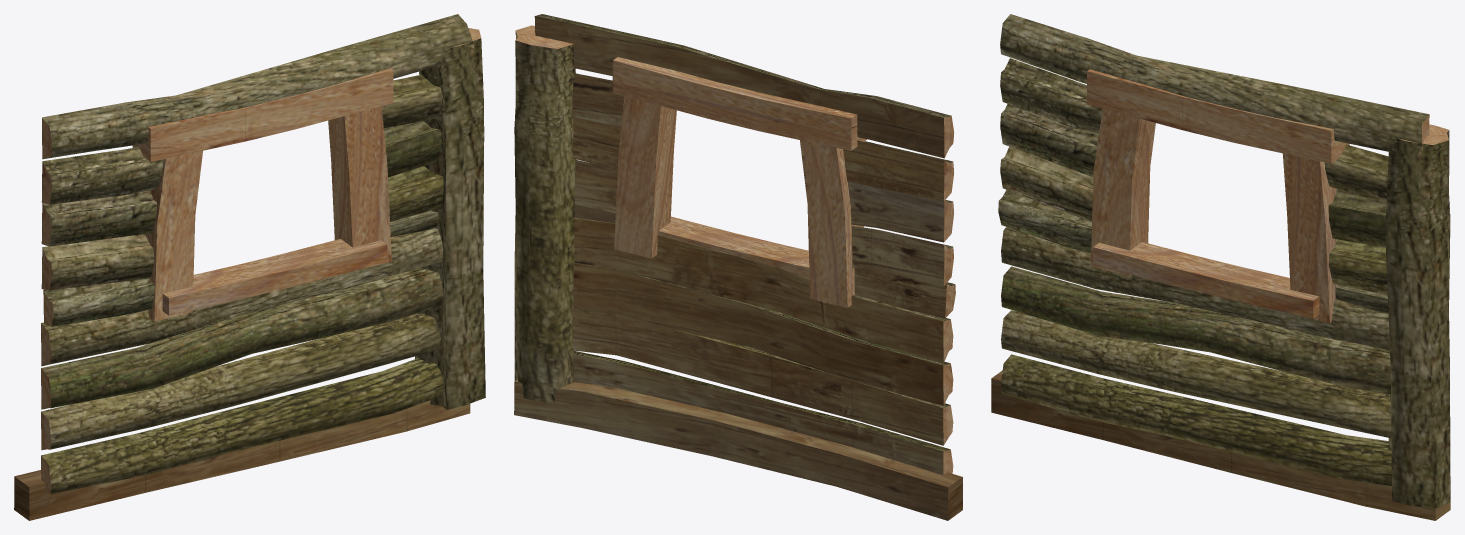
The model's file is House_01_window.obj.
3 renders of one model, left to right at view 1: azimuth 30°, elevation 25°; view 2: azimuth 150°, elevation 25°; view 3: azimuth 330°, elevation 25°, orthographic. The views are drawn at different scales.
Parts seen in each view (by area): view 1: Window; view 2: Window; view 3: Window.
Boxes of the visible parts, x1,y1,x2,y2 form: Window: (14, 14, 485, 520); Window: (514, 14, 962, 520); Window: (991, 14, 1450, 520).
Bounding box in the file's own units: 2.49 × 2.09 × 0.333.
